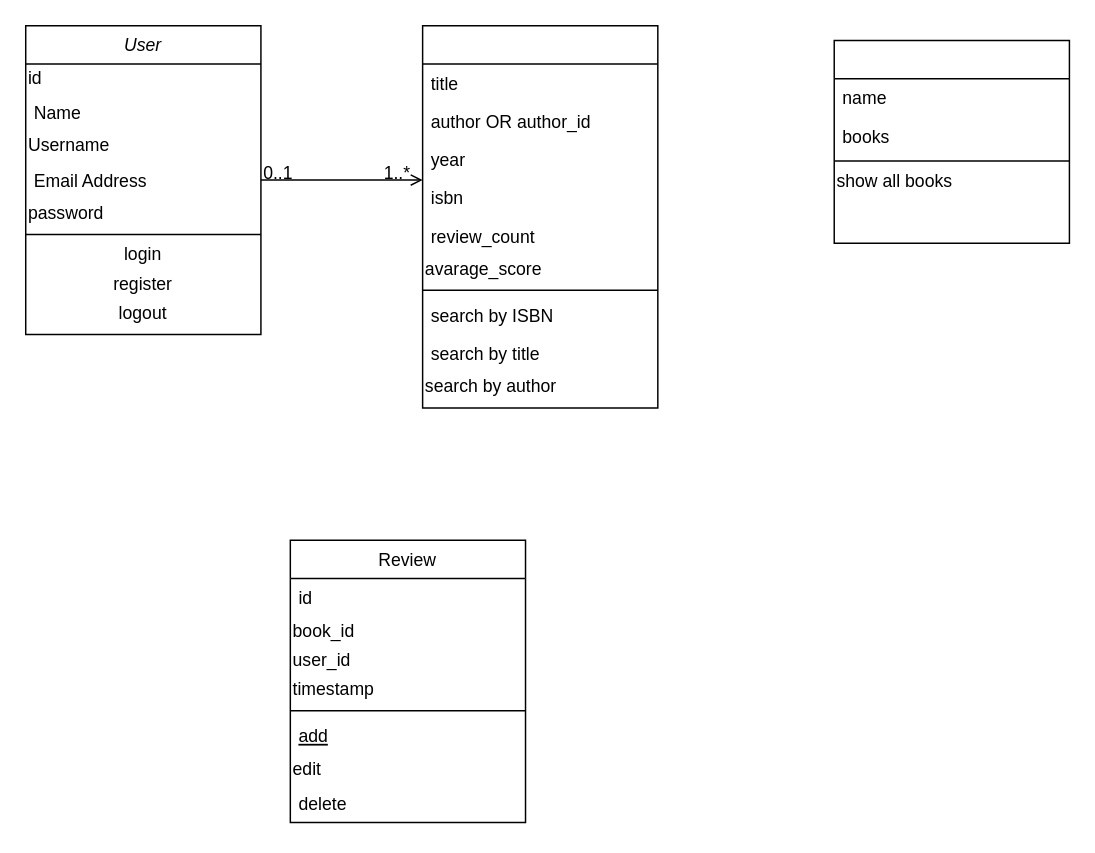
Image size: 1095x853. Some labels were removed from this diagram. The shapes that lost their labels are listed below. From the top down, each one's box as (x1, y1, x2, y2) in pixels, then its label:
(833, 39, 1069, 243): Author
(421, 24, 658, 408): Book
